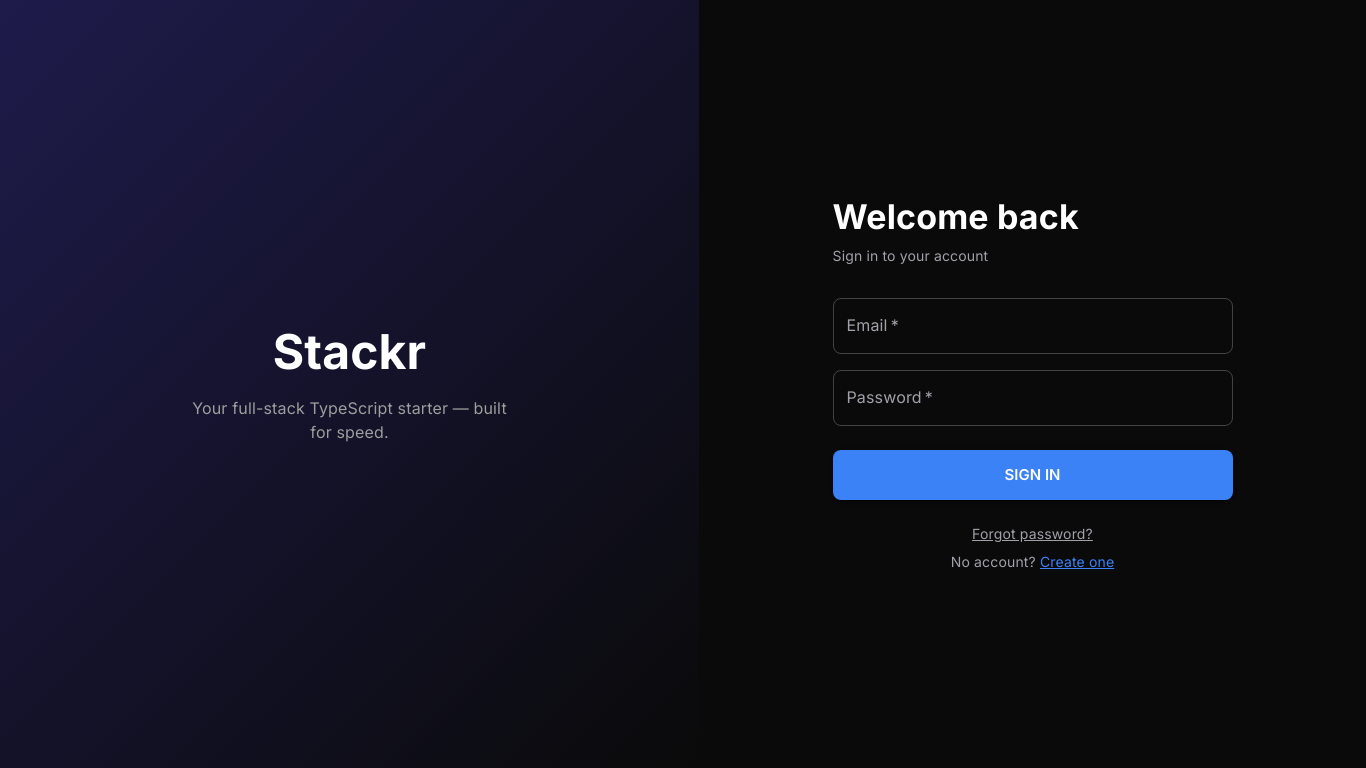
Test: LoginPage › shows an error dialog on failed login
This screenshot has width=1366, height=768.
Type "test@test.com" into the field labelled "Email *" at coordinates (1032, 326), box [832,298,1232,354]
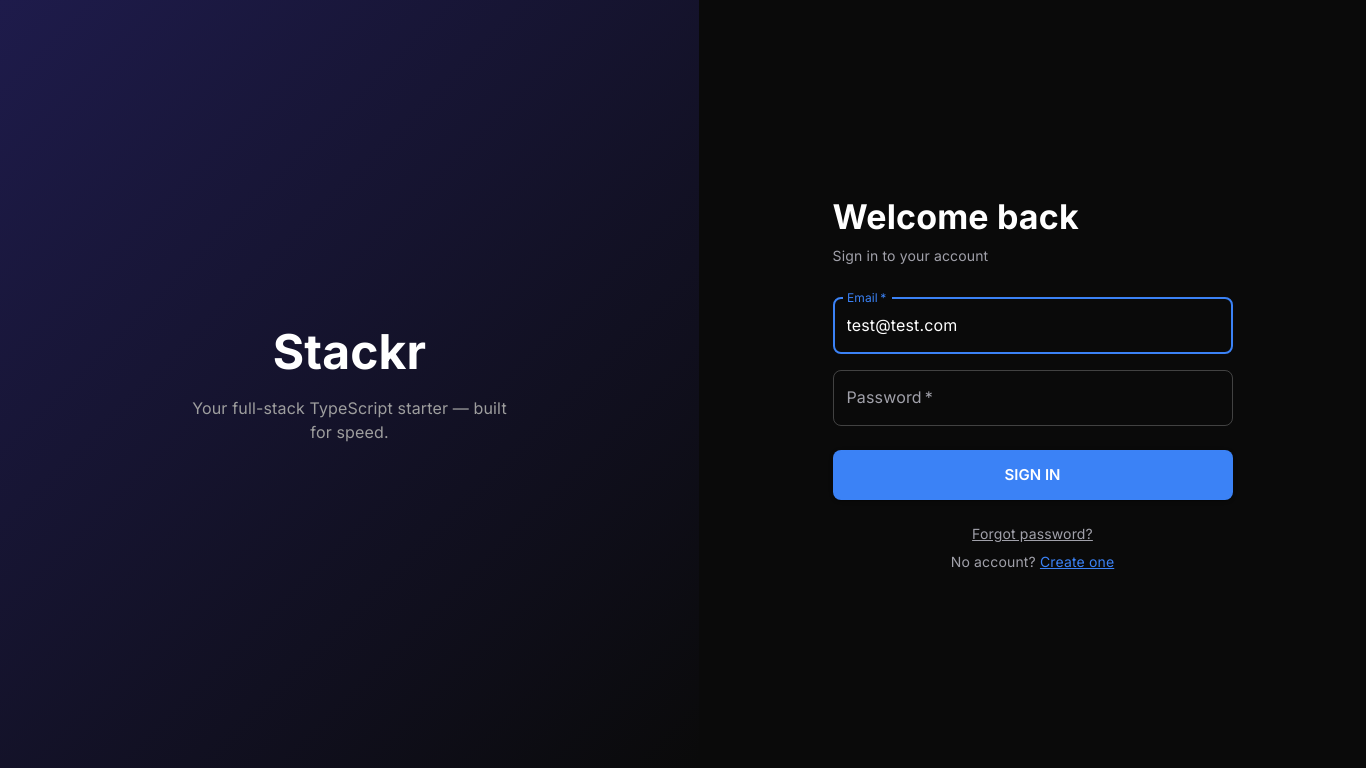
Type "wrongpassword" into the password field labelled "Password *" at coordinates (1032, 398), box [832,370,1232,426]
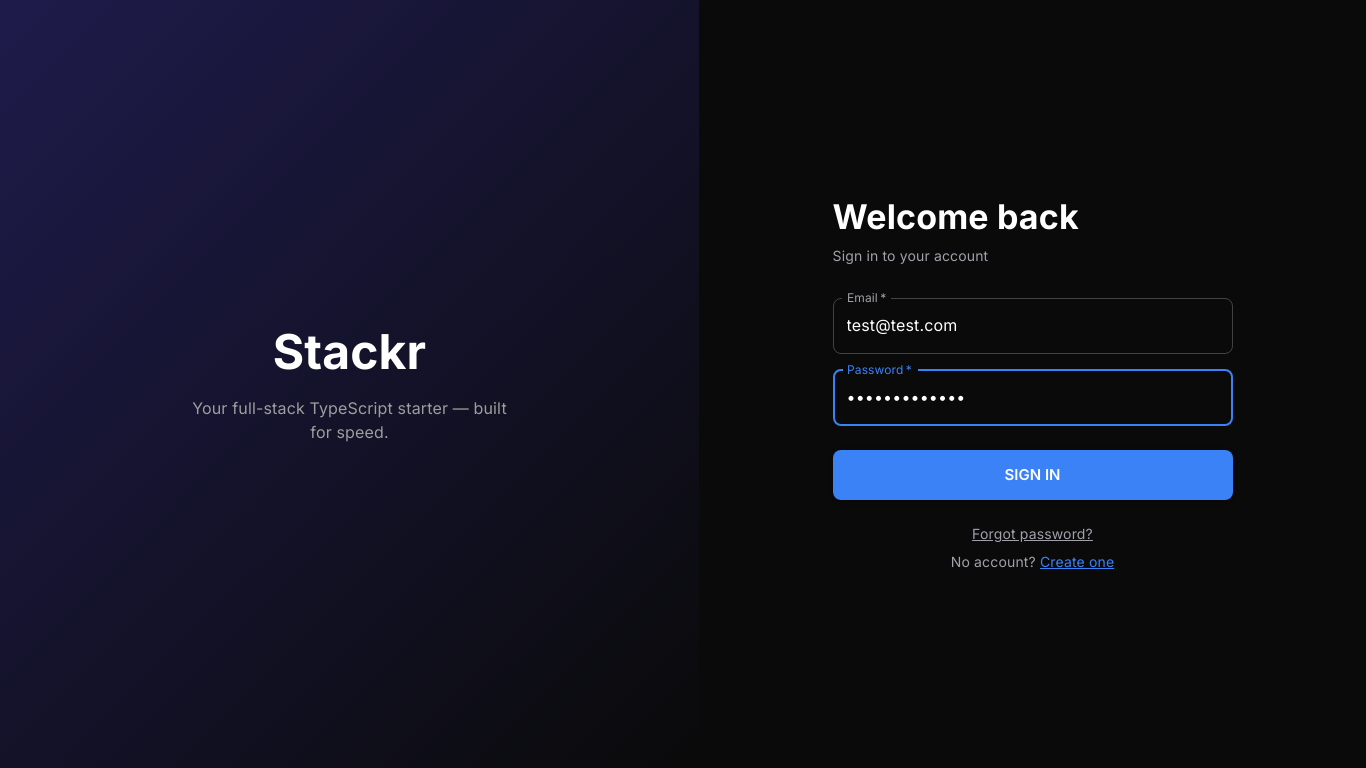
Click the button "Sign in" at coordinates (1032, 475), box [832,450,1232,500]
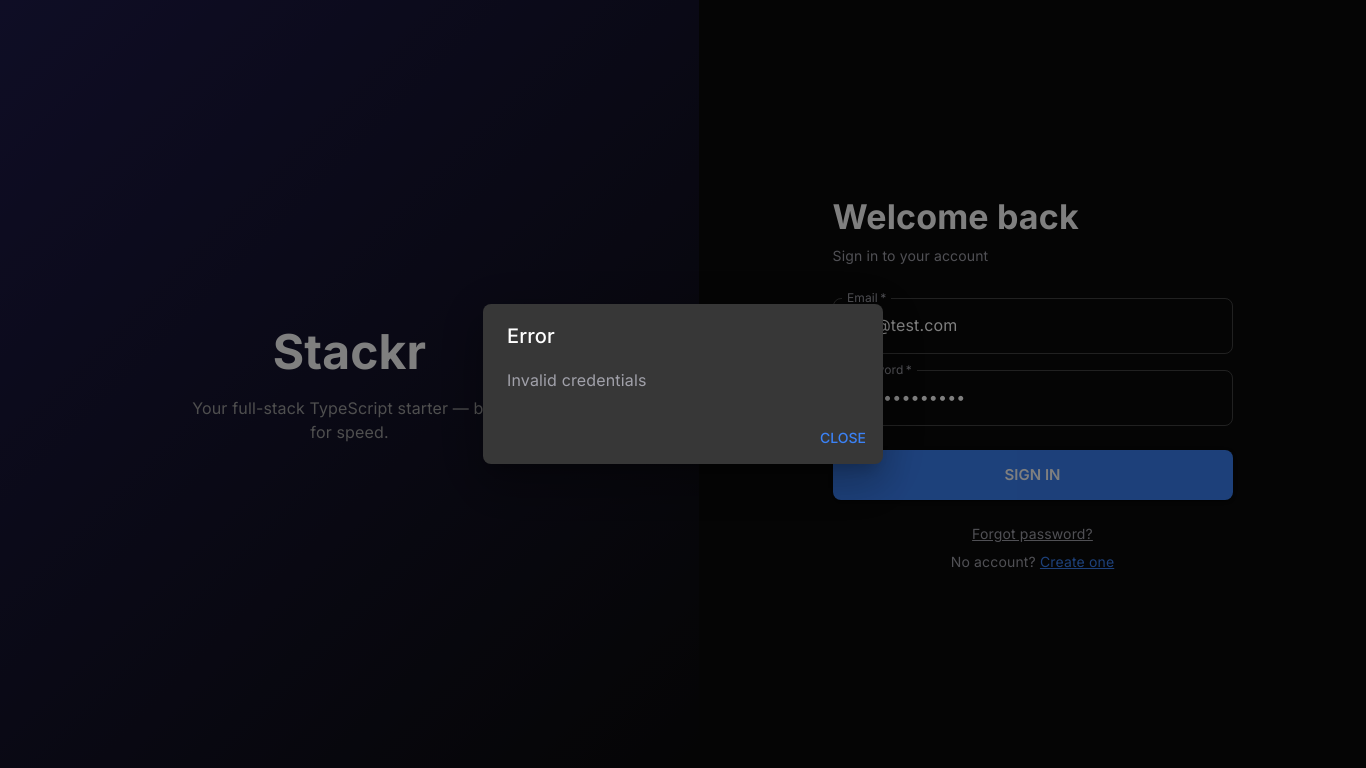
Result: the dialog is shown at [483,304,883,464]
Result: the text "Invalid credentials" is shown at [507,370,646,390]
